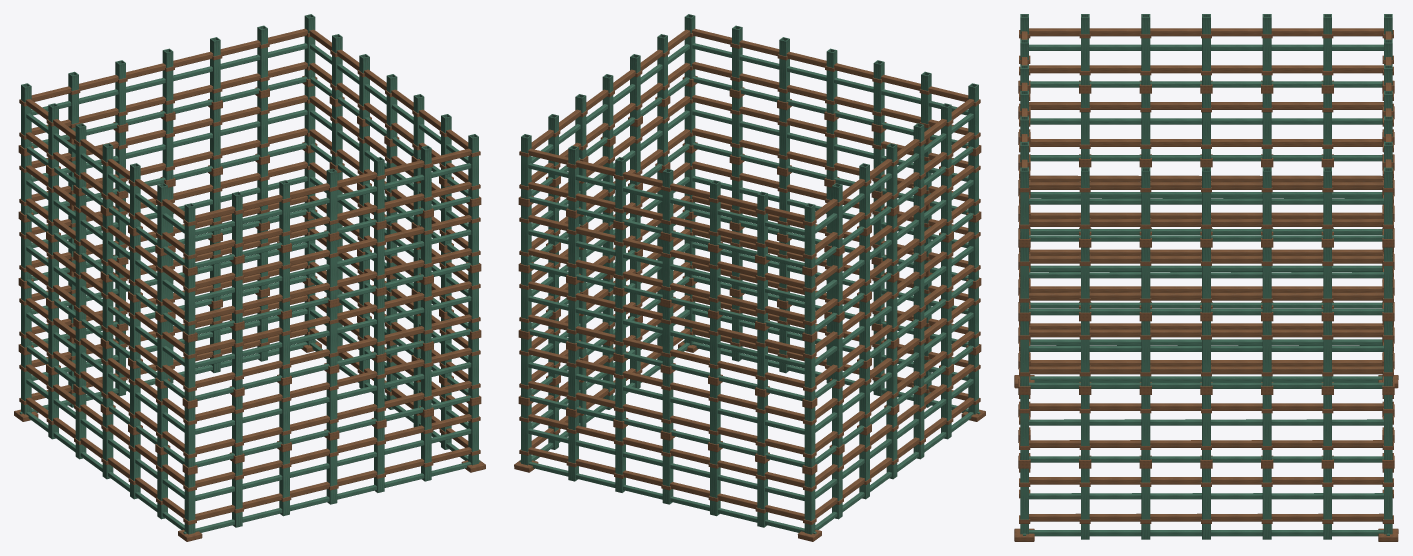
3 views of the same model, side by side, from view 1: azimuth 30°, elevation 25°; view 2: azimuth 150°, elevation 25°; view 3: azimuth 270°, elevation 25° (orthographic). The views are drawn at different scales.
Visible parts, largest first — view 1: Tier 4 side 0 post 0, Tier 4 side 0 post 3, Tier 4 side 2 post 3, Tier 0 side 0 post 3, Tier 1 side 0 post 0, Tier 0 side 0 post 0, Tier 2 side 0 post 0, Tier 3 side 0 post 0, Tier 4 side 0 post 4, Tier 4 side 0 post 5, Tier 4 side 2 post 1, Tier 4 side 3 post 3 (+19 smaller); view 2: Tier 4 side 3 post 0, Tier 4 side 0 post 2, Tier 4 side 2 post 3, Tier 0 side 2 post 3, Tier 4 side 0 post 3, Tier 1 side 3 post 0, Tier 0 side 3 post 0, Tier 2 side 3 post 0, Tier 3 side 3 post 0, Tier 4 side 2 post 1, Tier 4 side 3 post 3, Tier 4 side 2 post 2 (+20 smaller); view 3: Tier 4 side 3 post 2, Tier 4 side 3 post 4, Tier 0 side 1 post 2, Tier 0 side 1 post 4, Tier 4 side 1 post 2, Tier 4 side 1 post 4, Tier 2 side 1 post 2, Tier 2 side 1 post 4, Tier 3 side 1 post 2, Tier 3 side 1 post 4, Tier 4 side 3 post 1, Tier 4 side 3 post 3 (+57 smaller).
Part boxes in pixels (x1,y1,x2,y2): Tier 4 side 0 post 0: (184, 203, 195, 268); Tier 4 side 0 post 3: (326, 168, 337, 233); Tier 4 side 2 post 3: (162, 48, 173, 113); Tier 0 side 0 post 3: (326, 439, 337, 504); Tier 1 side 0 post 0: (184, 407, 195, 467); Tier 0 side 0 post 0: (184, 473, 195, 534); Tier 2 side 0 post 0: (184, 340, 195, 401); Tier 3 side 0 post 0: (184, 274, 195, 334); Tier 4 side 0 post 4: (374, 157, 384, 222); Tier 4 side 0 post 5: (421, 145, 431, 210); Tier 4 side 2 post 1: (257, 25, 267, 90); Tier 4 side 3 post 3: (102, 143, 113, 208); Tier 4 side 3 post 0: (804, 203, 815, 268); Tier 4 side 0 post 2: (873, 60, 884, 125); Tier 4 side 2 post 3: (662, 168, 673, 233); Tier 0 side 2 post 3: (662, 439, 673, 504); Tier 4 side 0 post 3: (826, 48, 837, 113); Tier 1 side 3 post 0: (804, 407, 815, 467); Tier 0 side 3 post 0: (804, 473, 815, 534); Tier 2 side 3 post 0: (804, 340, 815, 401); Tier 3 side 3 post 0: (804, 274, 815, 334); Tier 4 side 2 post 1: (568, 145, 578, 210); Tier 4 side 3 post 3: (886, 143, 897, 208); Tier 4 side 2 post 2: (615, 157, 625, 222); Tier 4 side 3 post 2: (1262, 14, 1271, 85); Tier 4 side 3 post 4: (1141, 14, 1150, 85); Tier 0 side 1 post 2: (1141, 468, 1150, 539); Tier 0 side 1 post 4: (1262, 468, 1271, 539); Tier 4 side 1 post 2: (1141, 167, 1150, 238); Tier 4 side 1 post 4: (1262, 167, 1271, 238); Tier 2 side 1 post 2: (1141, 321, 1150, 386); Tier 2 side 1 post 4: (1262, 321, 1271, 386); Tier 3 side 1 post 2: (1141, 247, 1150, 312); Tier 3 side 1 post 4: (1262, 247, 1271, 312); Tier 4 side 3 post 1: (1323, 14, 1331, 85); Tier 4 side 3 post 3: (1202, 14, 1210, 85).
Size of the model in its own units: 2.85 by 3.02 by 2.85.
Materials: 2 (2 with a texture image).
